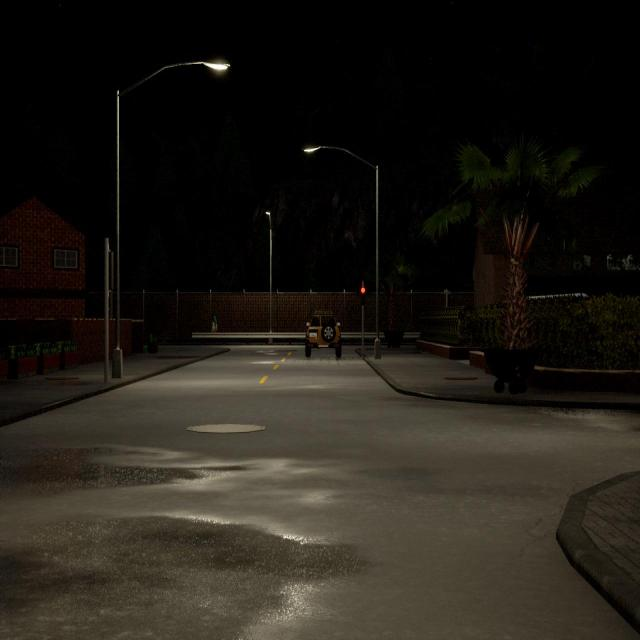Pedestrian: (209, 312, 218, 335)
Vehicle: (304, 308, 343, 360)
traffic_light: (101, 249, 115, 294), (359, 283, 367, 307)
